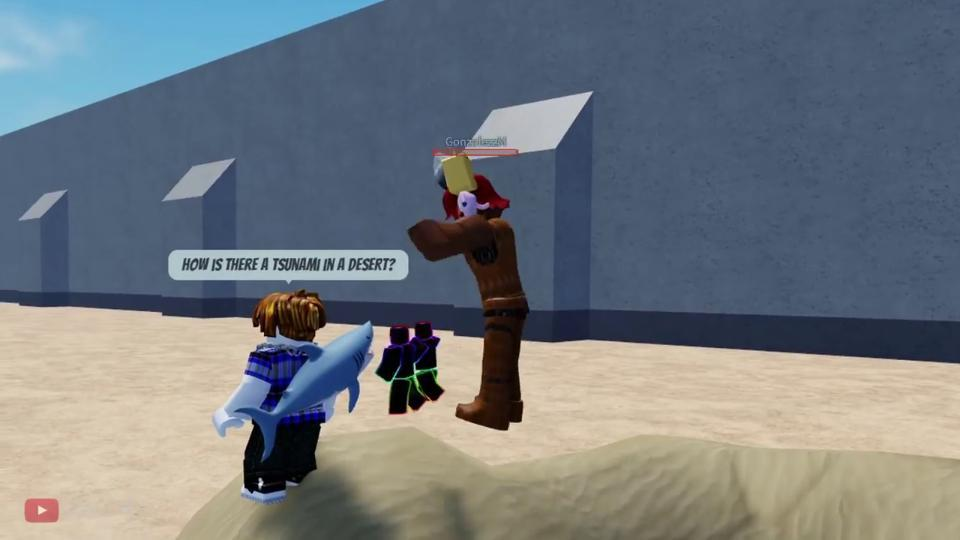Character: (376, 152, 530, 432), (213, 288, 338, 503)
